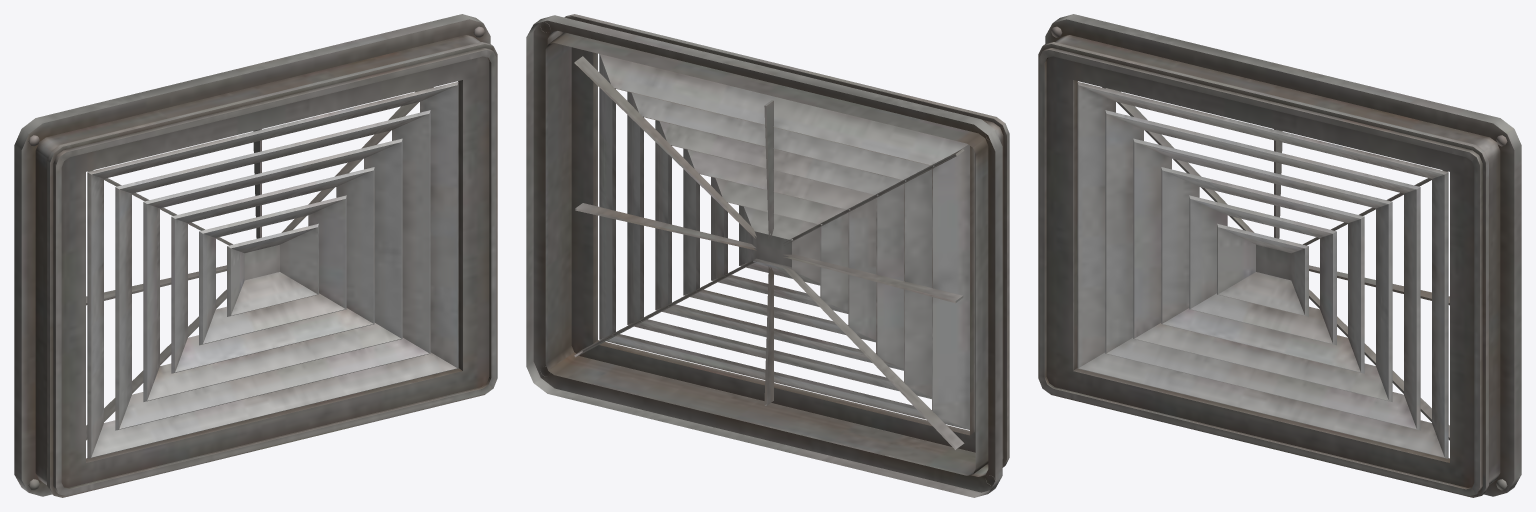
File: vent_02.gltf
The picture shows the model from 3 angles, left to right: view 1: azimuth 30°, elevation 25°; view 2: azimuth 150°, elevation 25°; view 3: azimuth 330°, elevation 25°; orthographic projection.
Parts seen in each view (by area): view 1: vent_02; view 2: vent_02; view 3: vent_02.
Boxes of the visible parts, left/top/right/bottom form: vent_02: left=14, top=14, right=497, bottom=497; vent_02: left=526, top=14, right=1009, bottom=497; vent_02: left=1038, top=14, right=1521, bottom=497.
Bounding box in the file's own units: 0.5521 × 0.42 × 0.0567.
Materials: 1 (1 with a texture image).
